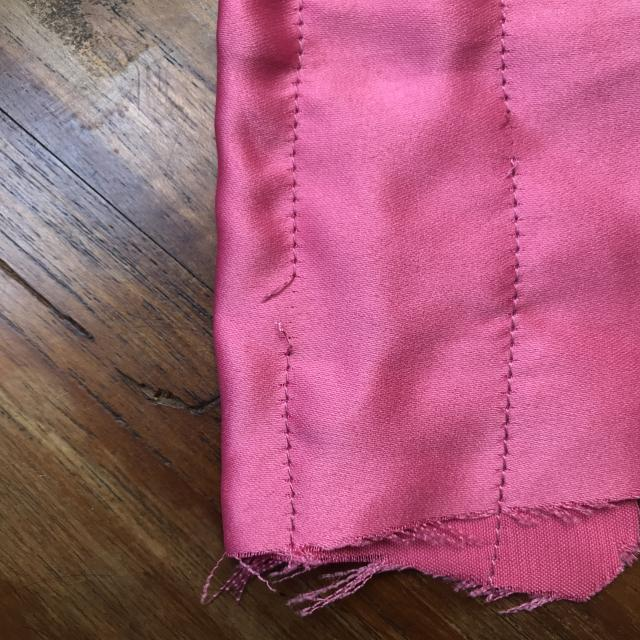broken: (256, 260, 319, 362)
